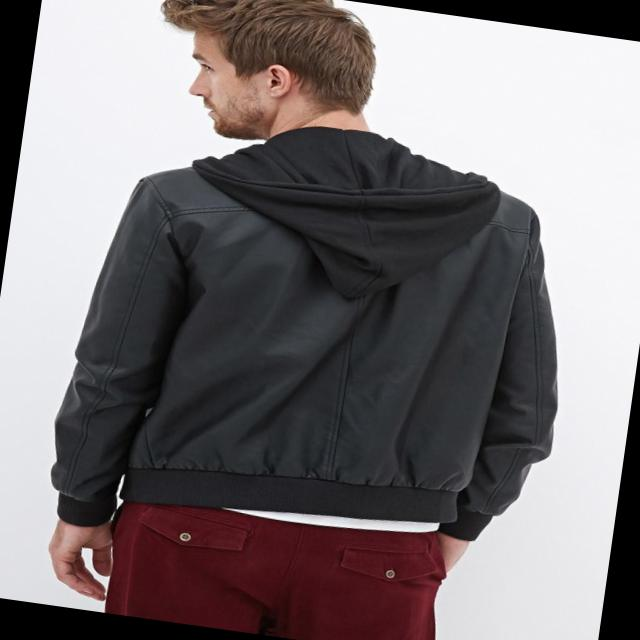Jacket: (34, 96, 593, 566)
